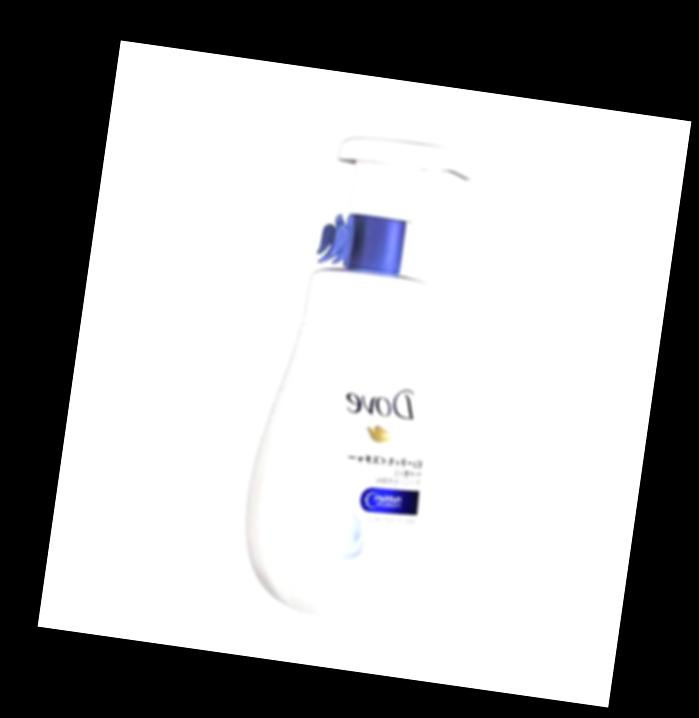cosmetic: (226, 121, 490, 634)
